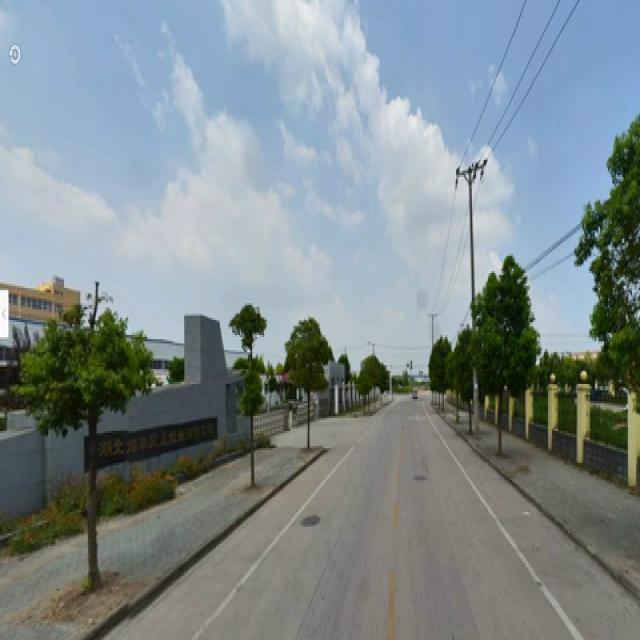cinn: (44, 311, 131, 576), (480, 264, 531, 456), (231, 307, 265, 478), (283, 311, 324, 448)
